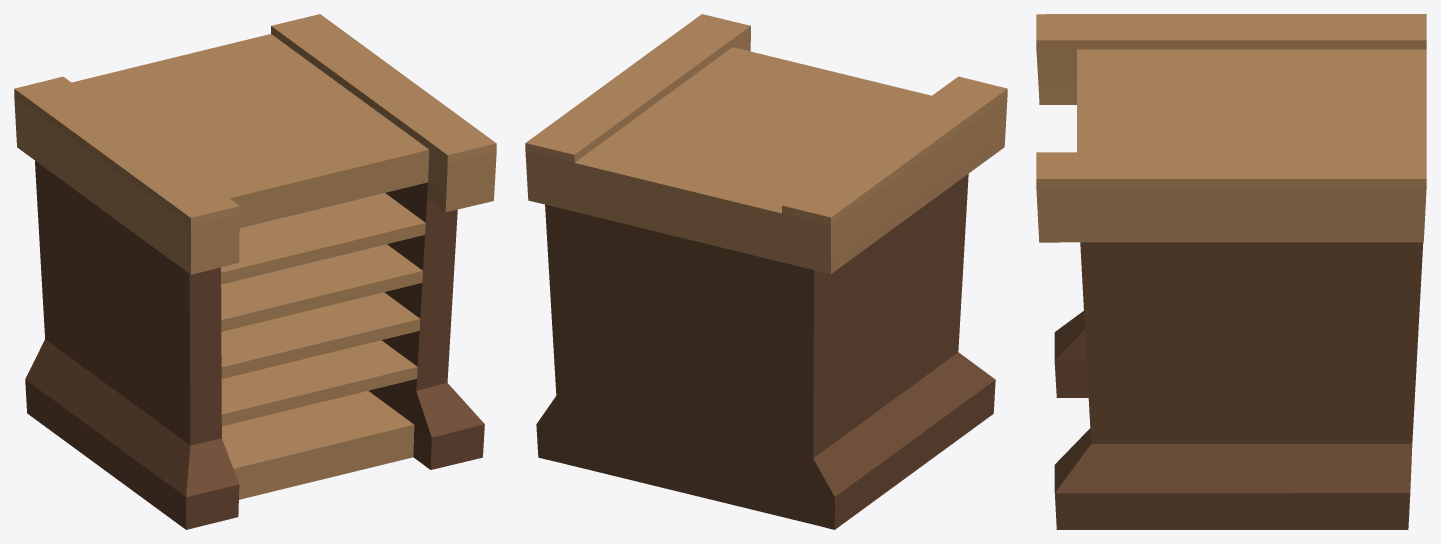
Rendered from qt-book-case.glb.
3 renders of one model, left to right at view 1: azimuth 30°, elevation 25°; view 2: azimuth 150°, elevation 25°; view 3: azimuth 270°, elevation 25°, orthographic. The views are drawn at different scales.
Parts seen in each view (by area): view 1: BookCase_Cube.004; view 2: BookCase_Cube.004; view 3: BookCase_Cube.004.
Part boxes in pixels (x1,y1,x2,y2): BookCase_Cube.004: (14,14,496,529); BookCase_Cube.004: (525,14,1007,529); BookCase_Cube.004: (1036,14,1426,529).
Bounding box in the file's own units: 1 × 1 × 1.
